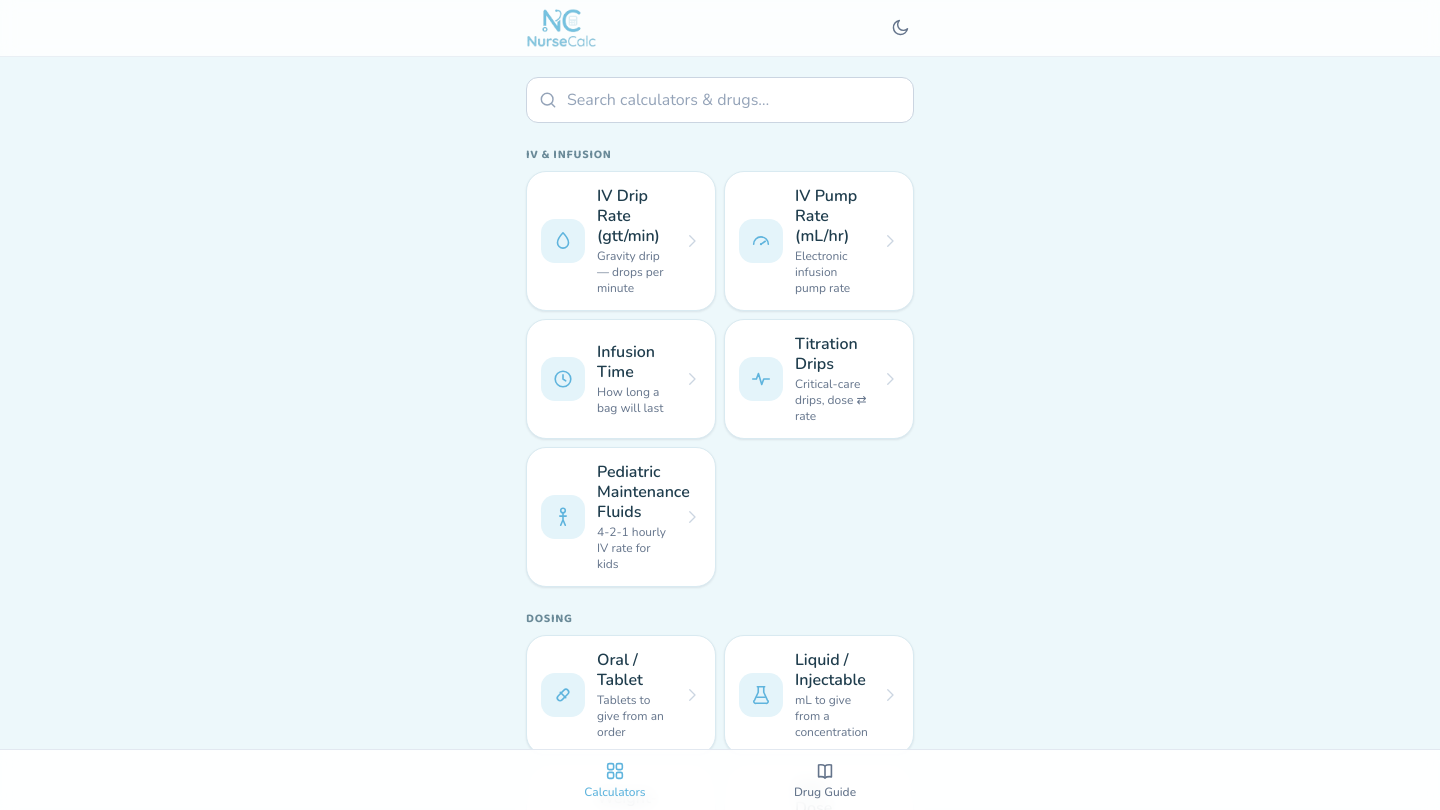
Test: App › conversions: default mass converts 1 mg → 1000 mcg
Click the button "Calculators" at (615, 780), box left=510, top=750, right=720, bottom=809
(page scrolled)
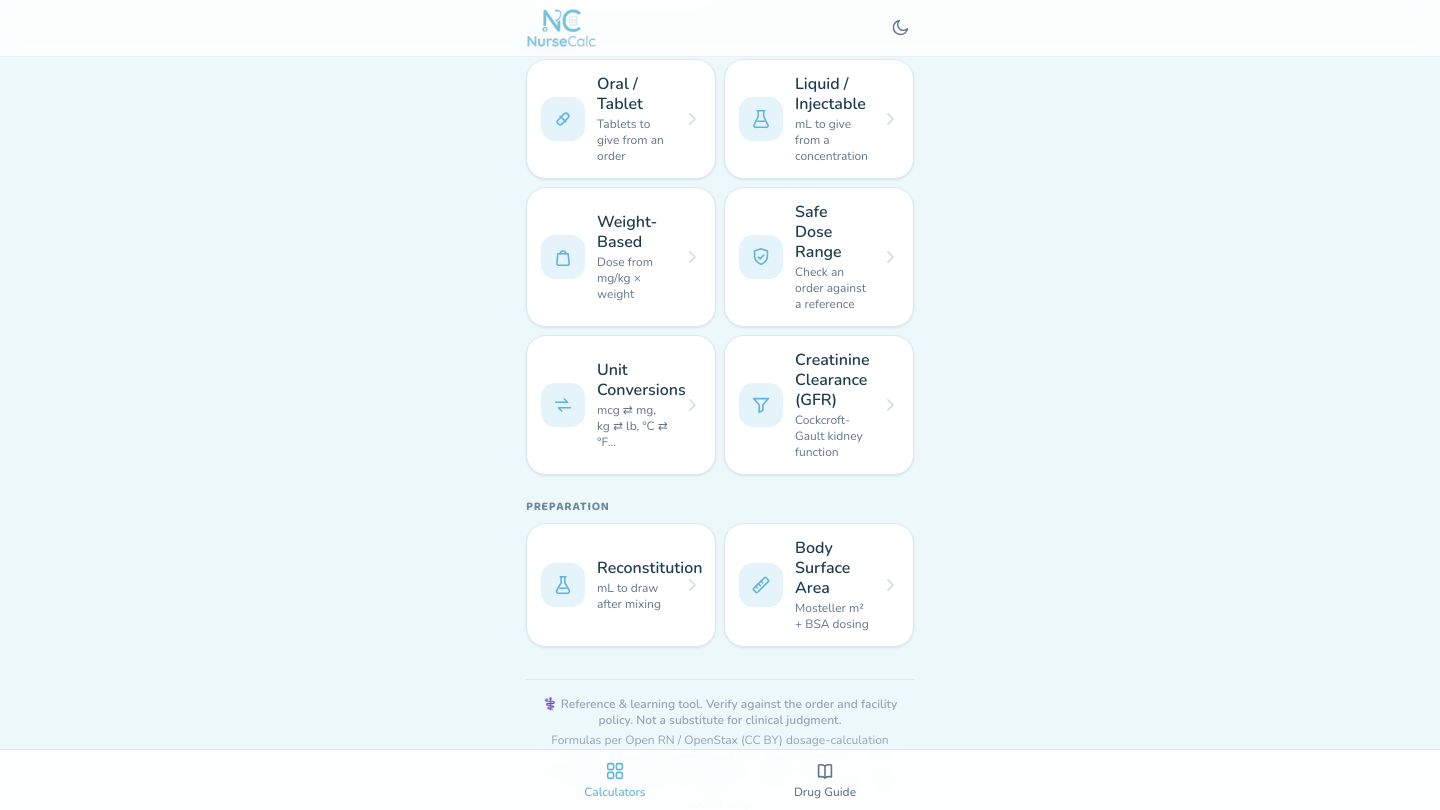
Click the button "Unit Conversions mcg ⇄ mg, kg ⇄ lb, °C ⇄ °F…" at (621, 405), box left=526, top=335, right=716, bottom=475
(page scrolled)
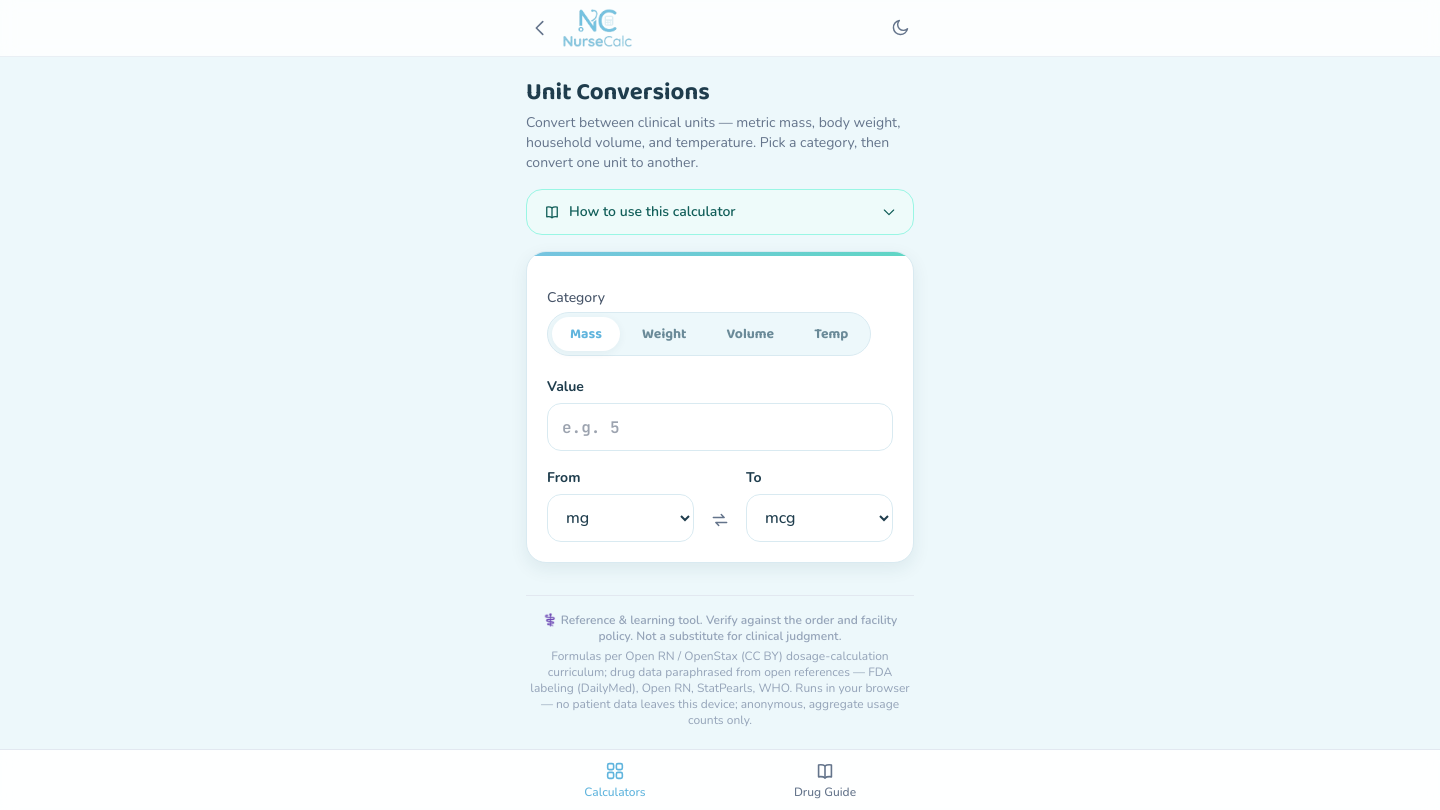
Type "1" into the field labelled "Value" at (720, 427), box left=548, top=404, right=892, bottom=450
(page scrolled)
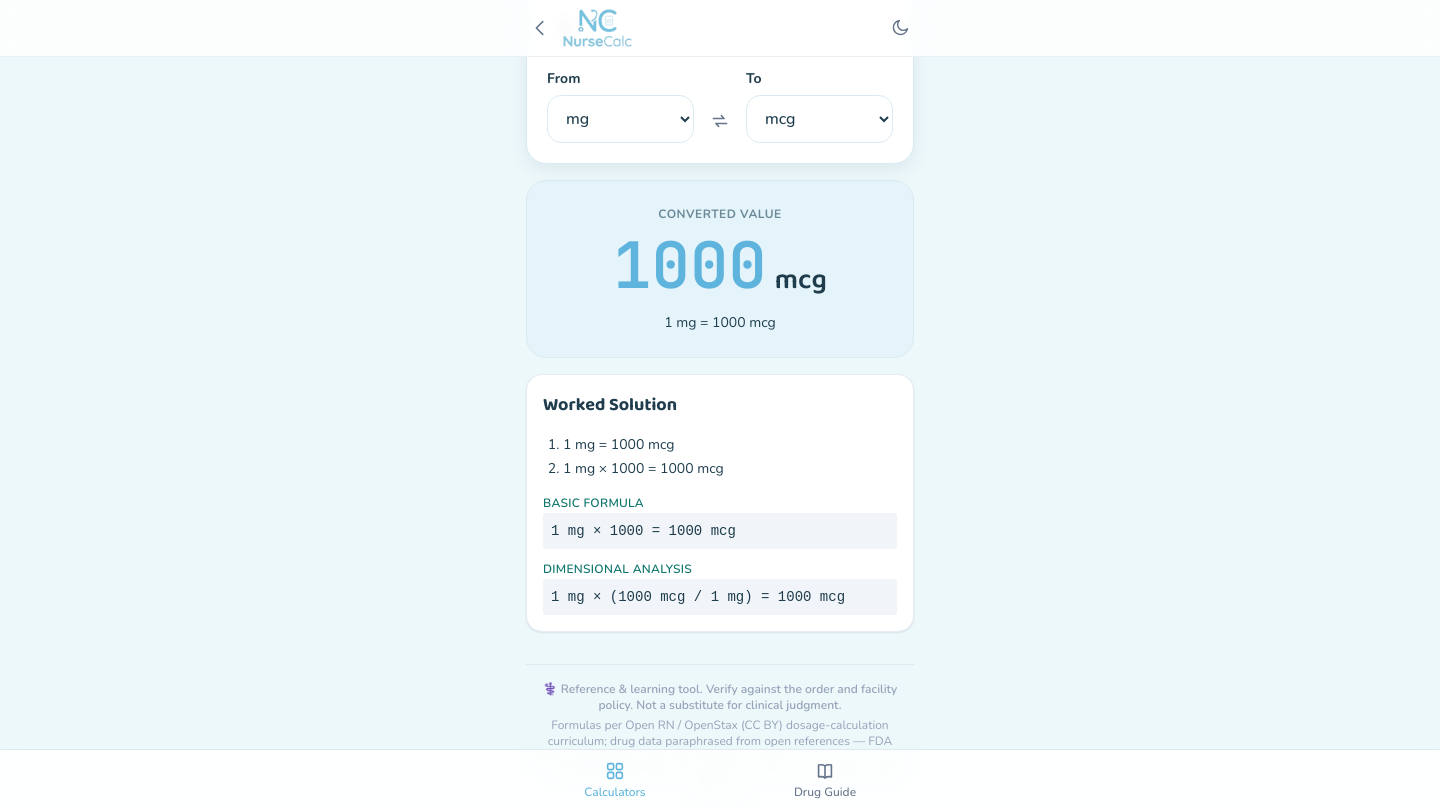
Now the text "1000" is shown, box left=613, top=233, right=767, bottom=297
Now the heading "Worked Solution" is shown, box left=543, top=391, right=677, bottom=419
